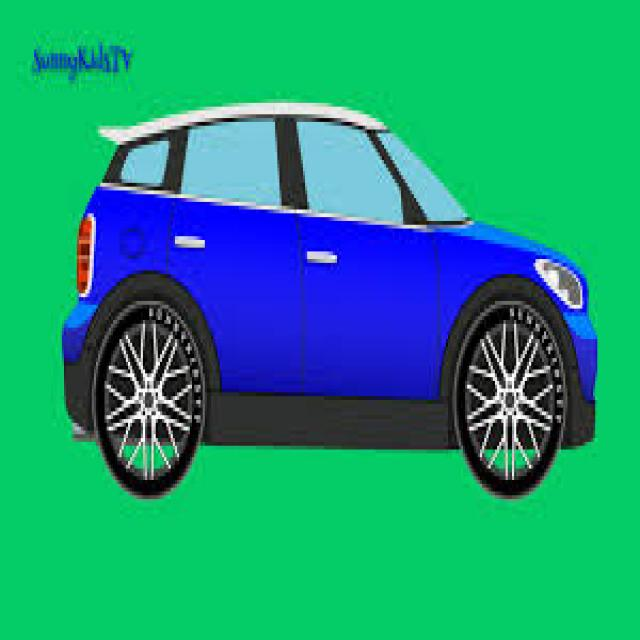Car: (64, 102, 602, 519)
